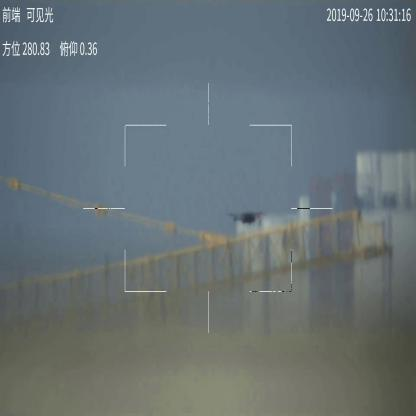uav: (227, 209, 264, 228)
